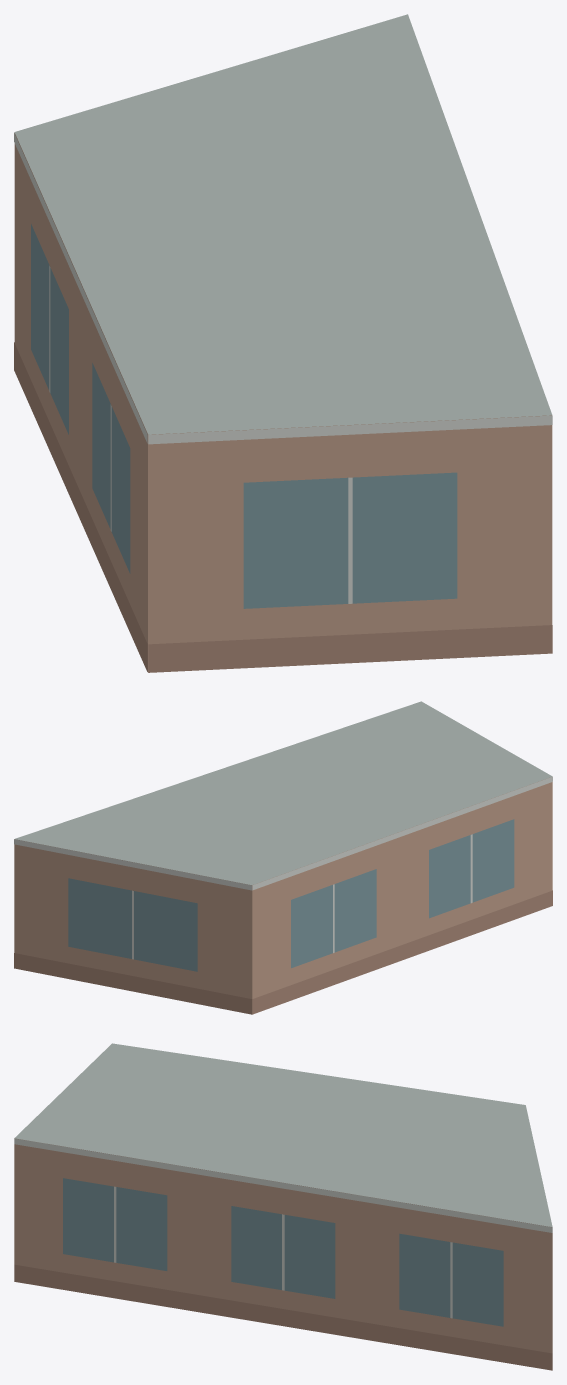
The model's file is survey-upis-32643727.glb.
3 views of the same model, one above another, from view 1: azimuth 30°, elevation 25°; view 2: azimuth 150°, elevation 25°; view 3: azimuth 270°, elevation 25° (orthographic). The views are drawn at different scales.
Visible parts, largest first — view 1: survey-upis-32643727.tmp; view 2: survey-upis-32643727.tmp; view 3: survey-upis-32643727.tmp.
Boxes of the visible parts, bbox=[...] form: survey-upis-32643727.tmp: bbox=[14, 14, 552, 672]; survey-upis-32643727.tmp: bbox=[14, 701, 552, 1014]; survey-upis-32643727.tmp: bbox=[14, 1043, 552, 1370].
Bounding box in the file's own units: 8.4 × 3.05 × 10.4.
